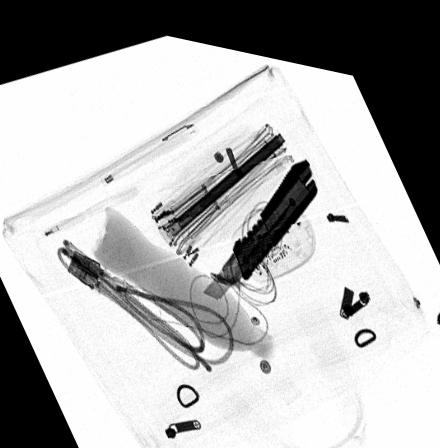Knife: (202, 145, 319, 291)
